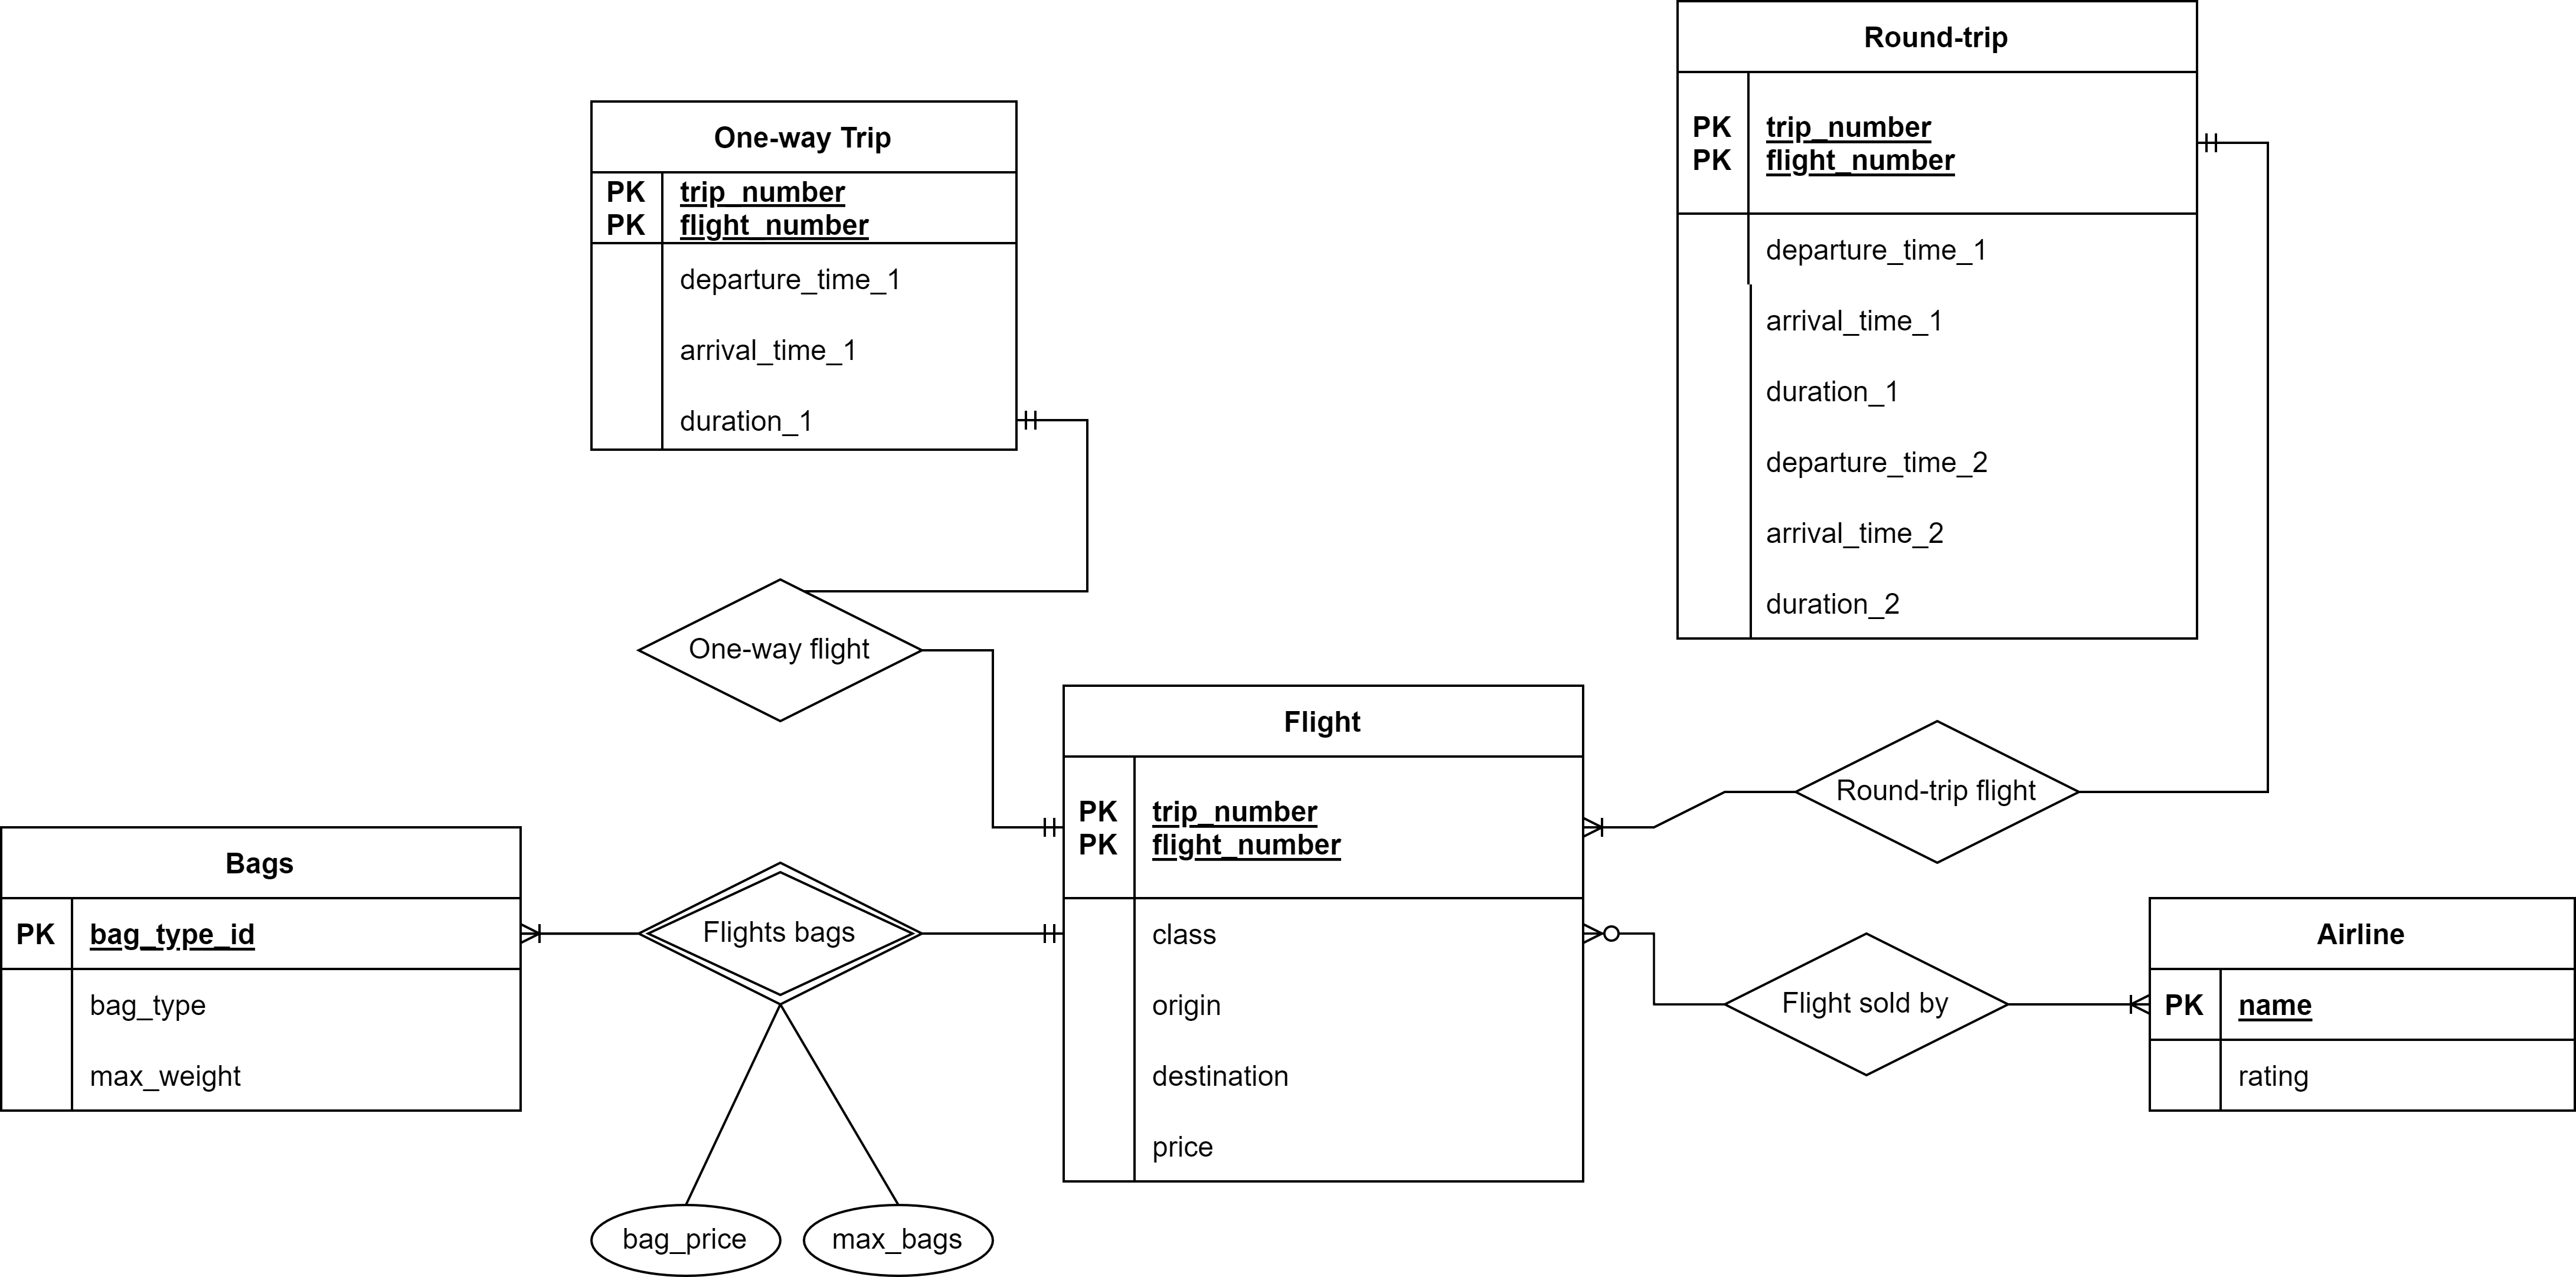entity: (1677, 2, 2195, 637), (1063, 681, 1585, 1185), (588, 98, 1014, 450), (0, 829, 522, 1110), (2150, 896, 2576, 1115)
ident_rel: (636, 863, 923, 1005)
many: (1577, 916, 1643, 960), (1584, 799, 1641, 847), (517, 909, 563, 959), (2109, 982, 2154, 1023)
one: (1014, 392, 1071, 446), (2196, 115, 2249, 169), (1019, 804, 1068, 849), (1020, 908, 1063, 954)
rel: (639, 573, 923, 724), (1796, 717, 2083, 865), (1725, 929, 2008, 1077)
rel_attr: (586, 1205, 787, 1277), (805, 1205, 994, 1277)
